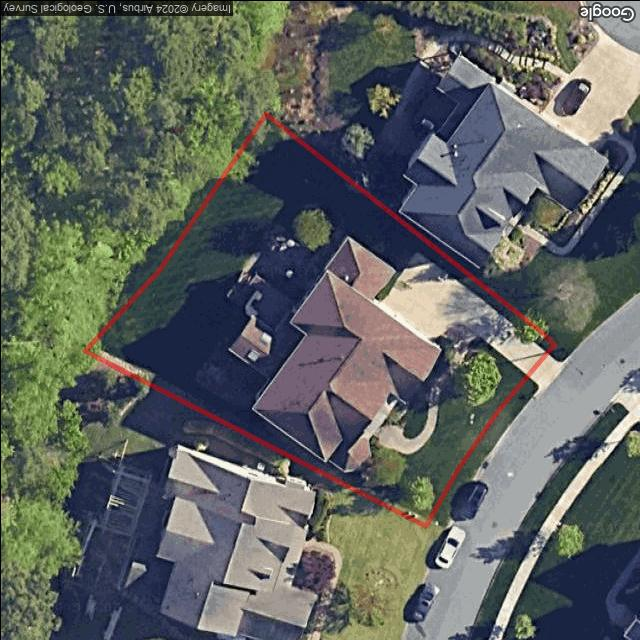Driveway: (370, 251, 545, 375)
Extra-Driveway: (529, 353, 560, 385)
Extra-Lawn: (426, 376, 539, 533), (546, 344, 569, 361)
House: (225, 234, 441, 475)
Lawn: (84, 115, 553, 525)
Other: (371, 324, 478, 454), (223, 225, 346, 328), (198, 341, 266, 405)
